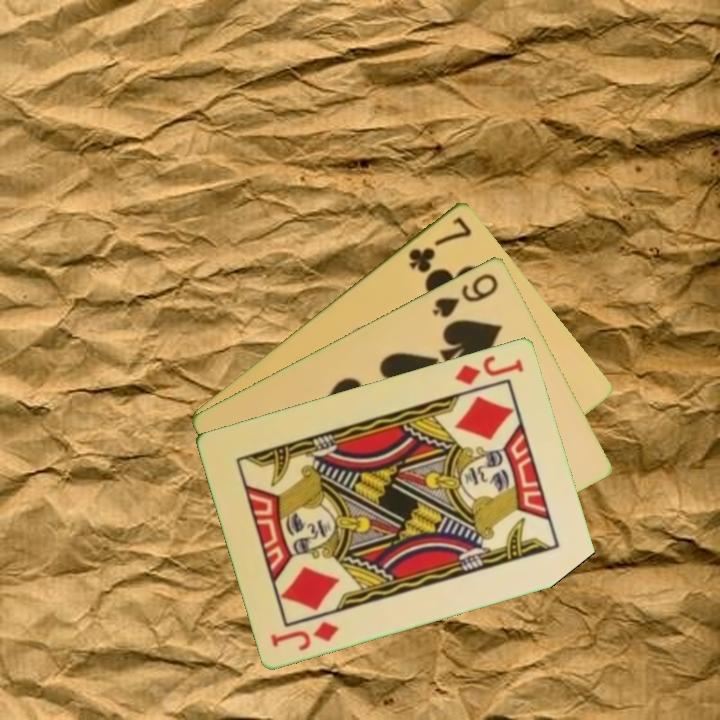7c: (405, 212, 475, 276)
9s: (429, 269, 502, 320)
Jd: (451, 351, 527, 388), (267, 617, 343, 653)
